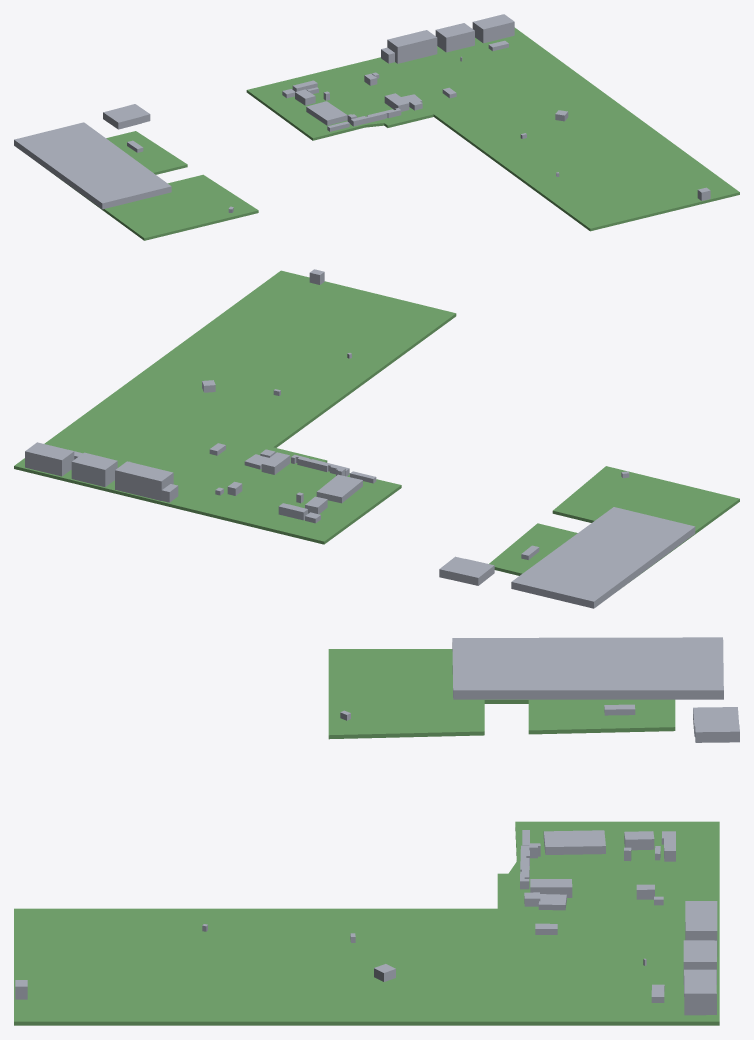
Rendered from SM_Blockout_Fondale_v3.fbx.
The picture shows the model from 3 angles, top to bottom: view 1: azimuth 30°, elevation 25°; view 2: azimuth 150°, elevation 25°; view 3: azimuth 270°, elevation 25°; orthographic projection. The views are drawn at different scales.
Visible parts, largest first — view 1: SM_Blockout_Fondale_v3_Terreno, SM_Blockout_Fondale_v3_Edifici; view 2: SM_Blockout_Fondale_v3_Terreno, SM_Blockout_Fondale_v3_Edifici; view 3: SM_Blockout_Fondale_v3_Terreno, SM_Blockout_Fondale_v3_Edifici.
Part boxes in pixels (box(x1,y1,x2,y2)): SM_Blockout_Fondale_v3_Terreno: box(46, 27, 739, 240); SM_Blockout_Fondale_v3_Edifici: box(14, 14, 710, 212); SM_Blockout_Fondale_v3_Terreno: box(14, 270, 739, 586); SM_Blockout_Fondale_v3_Edifici: box(25, 269, 695, 608); SM_Blockout_Fondale_v3_Terreno: box(14, 649, 719, 1025); SM_Blockout_Fondale_v3_Edifici: box(15, 637, 739, 1015).
Size of what is drawn, in the model's own units: 60341 by 49388 by 2249.
